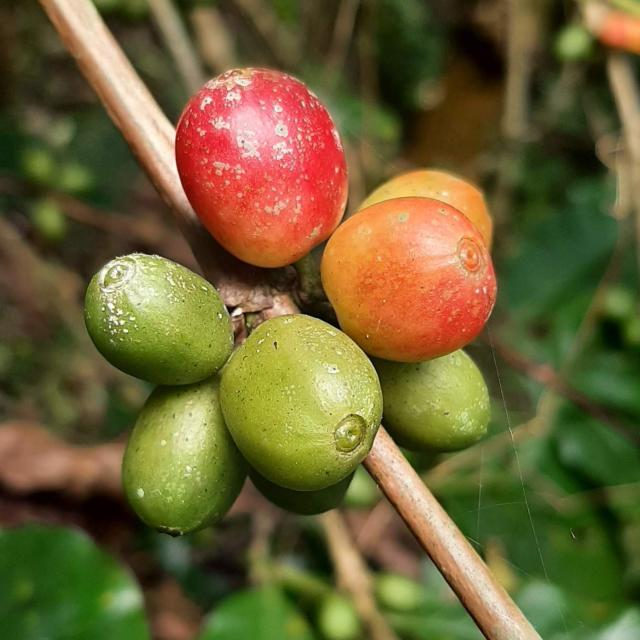green: (220, 314, 383, 492), (122, 374, 248, 537), (84, 253, 234, 386), (372, 350, 491, 453)
yellow: (175, 67, 348, 267), (321, 197, 498, 362), (359, 169, 494, 249)
